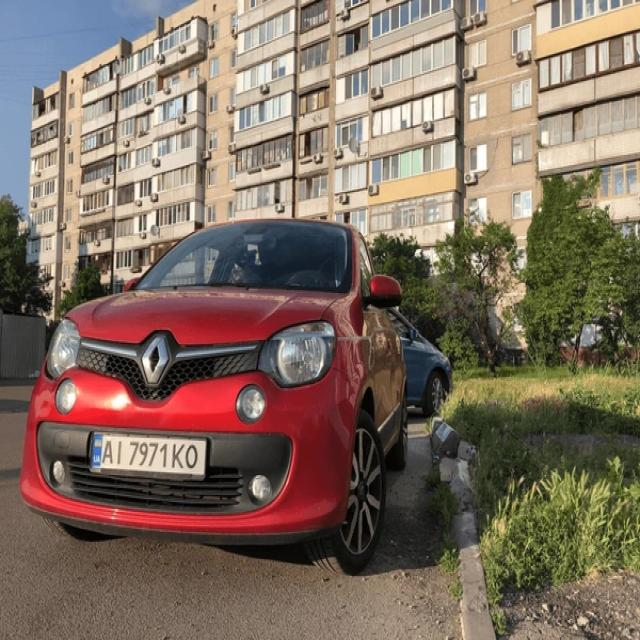renault: (142, 335, 170, 385)
